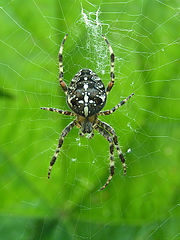spider: (20, 23, 158, 194)
